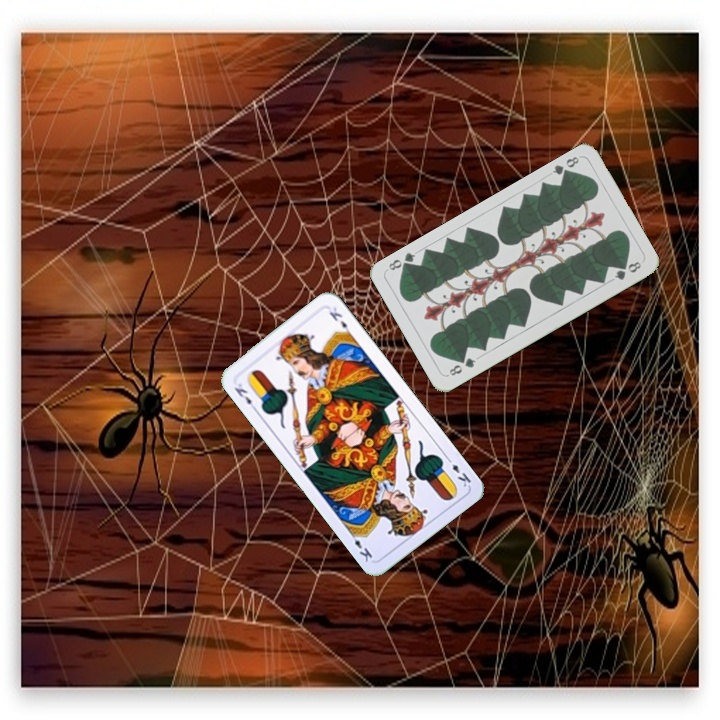EK: (442, 453, 473, 490), (230, 379, 259, 414)
G8: (548, 152, 582, 181), (445, 353, 479, 378)
